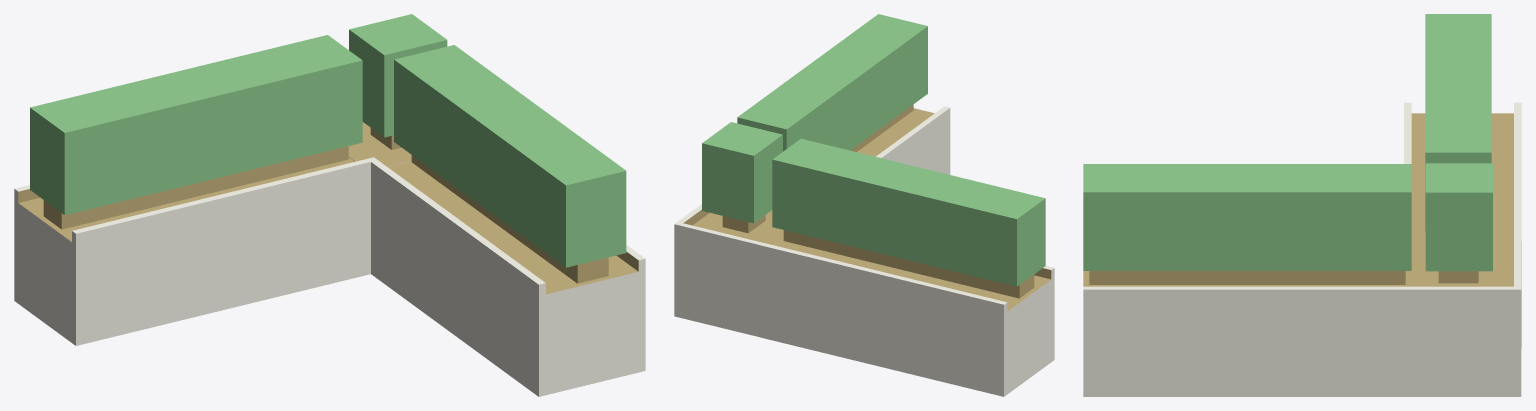
The model's file is props22.fbx.
3 views of the same model, side by side, from view 1: azimuth 30°, elevation 25°; view 2: azimuth 150°, elevation 25°; view 3: azimuth 270°, elevation 25° (orthographic). The views are drawn at different scales.
Visible parts, largest first — view 1: Cube; view 2: Cube; view 3: Cube.
Boxes of the visible parts, x1,y1,x2,y2 form: Cube: [14, 14, 645, 396]; Cube: [674, 14, 1054, 396]; Cube: [1083, 14, 1521, 396].
Size of the model in its own units: 270 by 132 by 267.
